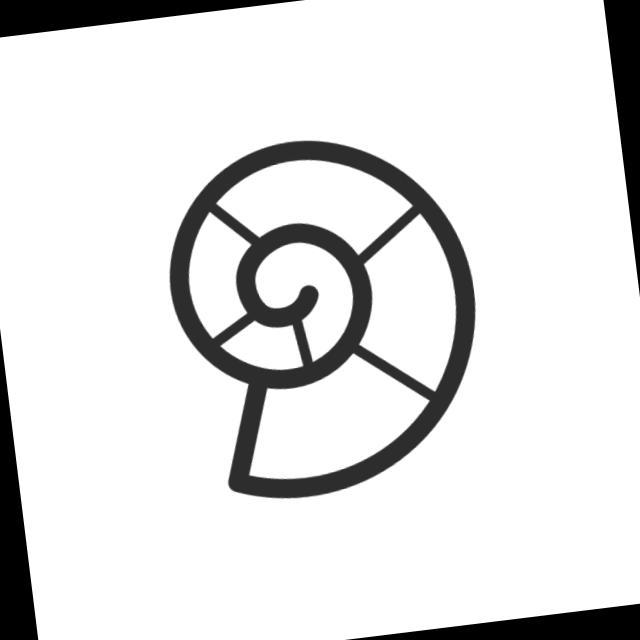fossil: (146, 115, 504, 518)
